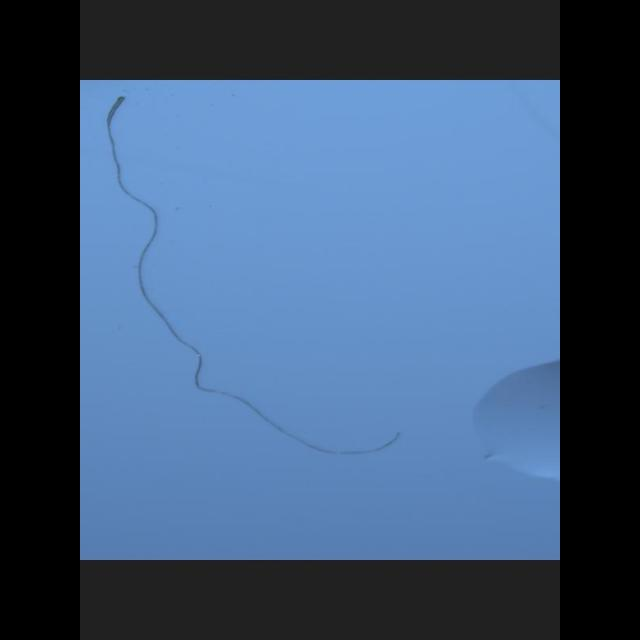Fibre: (102, 96, 402, 457)
